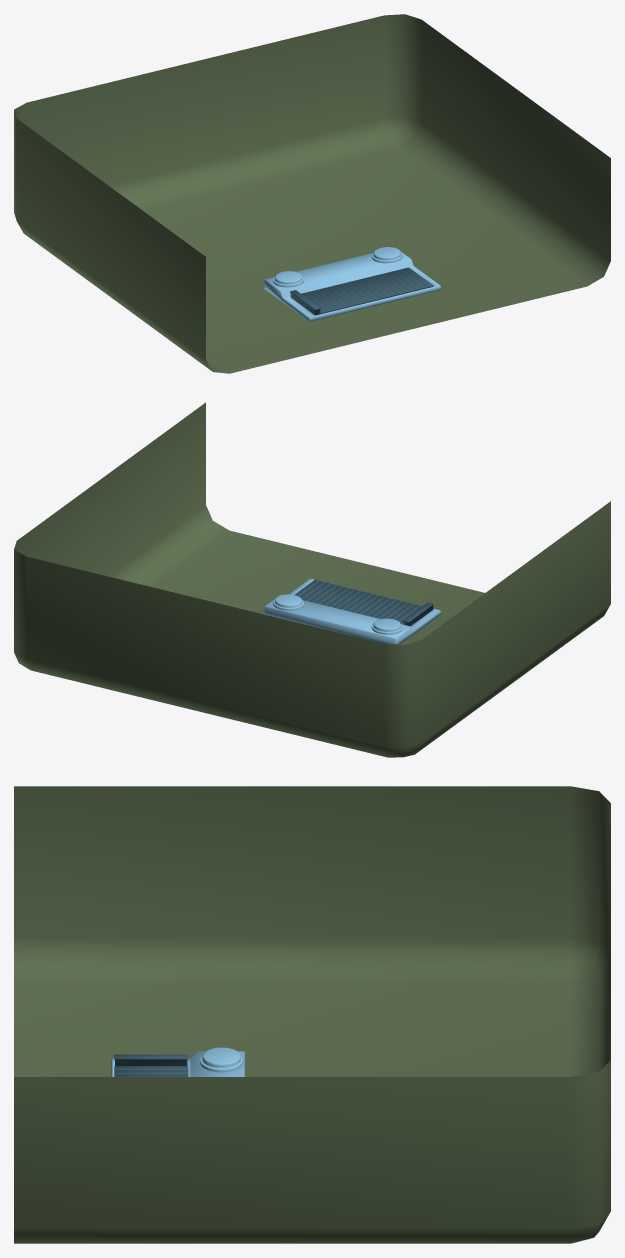
The model's file is basic_1.glb.
The picture shows the model from 3 angles, top to bottom: view 1: azimuth 30°, elevation 25°; view 2: azimuth 150°, elevation 25°; view 3: azimuth 270°, elevation 25°; orthographic projection. The views are drawn at different scales.
Visible parts, largest first — view 1: basic_1_backdrop, main_stage; view 2: basic_1_backdrop, main_stage; view 3: basic_1_backdrop, main_stage, key_block.000.
Part boxes in pixels (box(x1,y1,x2,y2)): basic_1_backdrop: box(14, 14, 610, 373); main_stage: box(264, 247, 440, 321); basic_1_backdrop: box(14, 402, 610, 757); main_stage: box(264, 578, 440, 644); basic_1_backdrop: box(14, 786, 610, 1243); main_stage: box(111, 1047, 244, 1076); key_block.000: box(114, 1054, 187, 1065).
Size of the model in its own units: 68.06 by 20.18 by 59.09.
